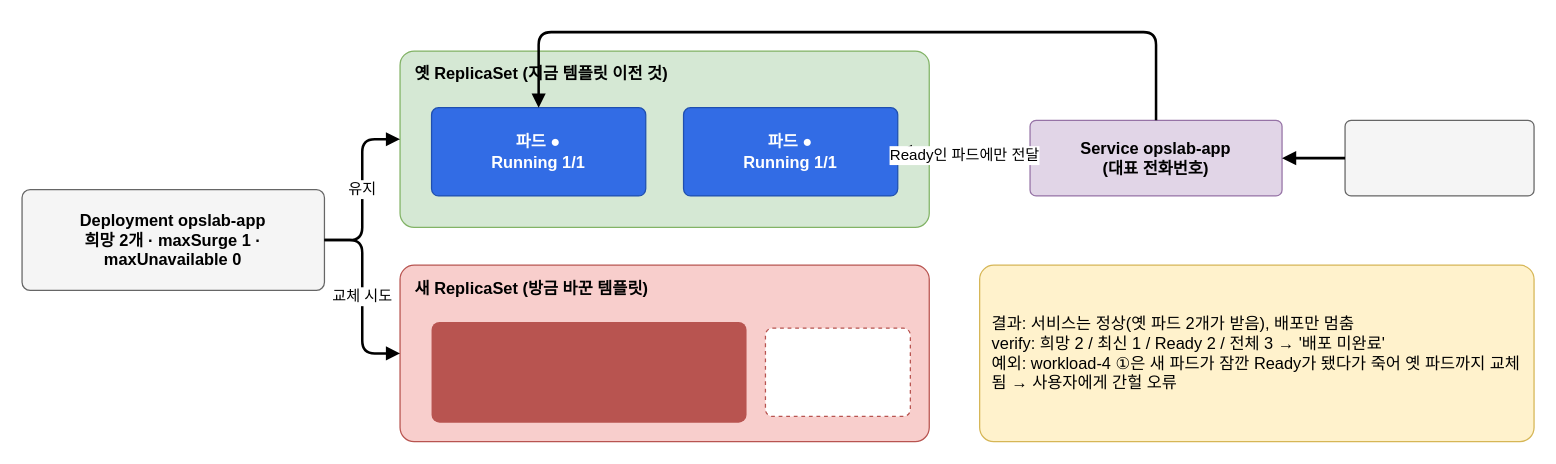
Image size: 1556x464. Some labels were removed from this diagram. Each missing label, with the centre of its shape:
"다음 파드는 만들지 않고 대기" goes at point (837, 371).
"사용자 · 부하 파드" goes at point (1439, 157).
"파드 ✖ Pending / CrashLoopBackOff … Ready가 안 됨" goes at point (588, 371).
